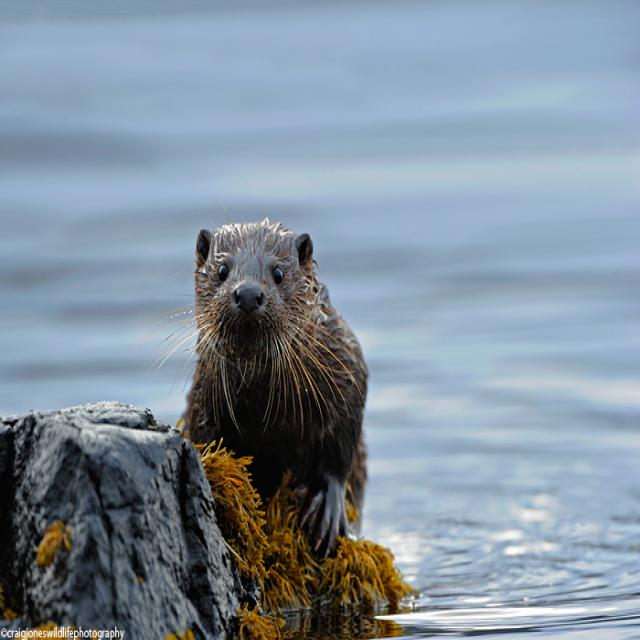otter: (189, 224, 371, 544)
